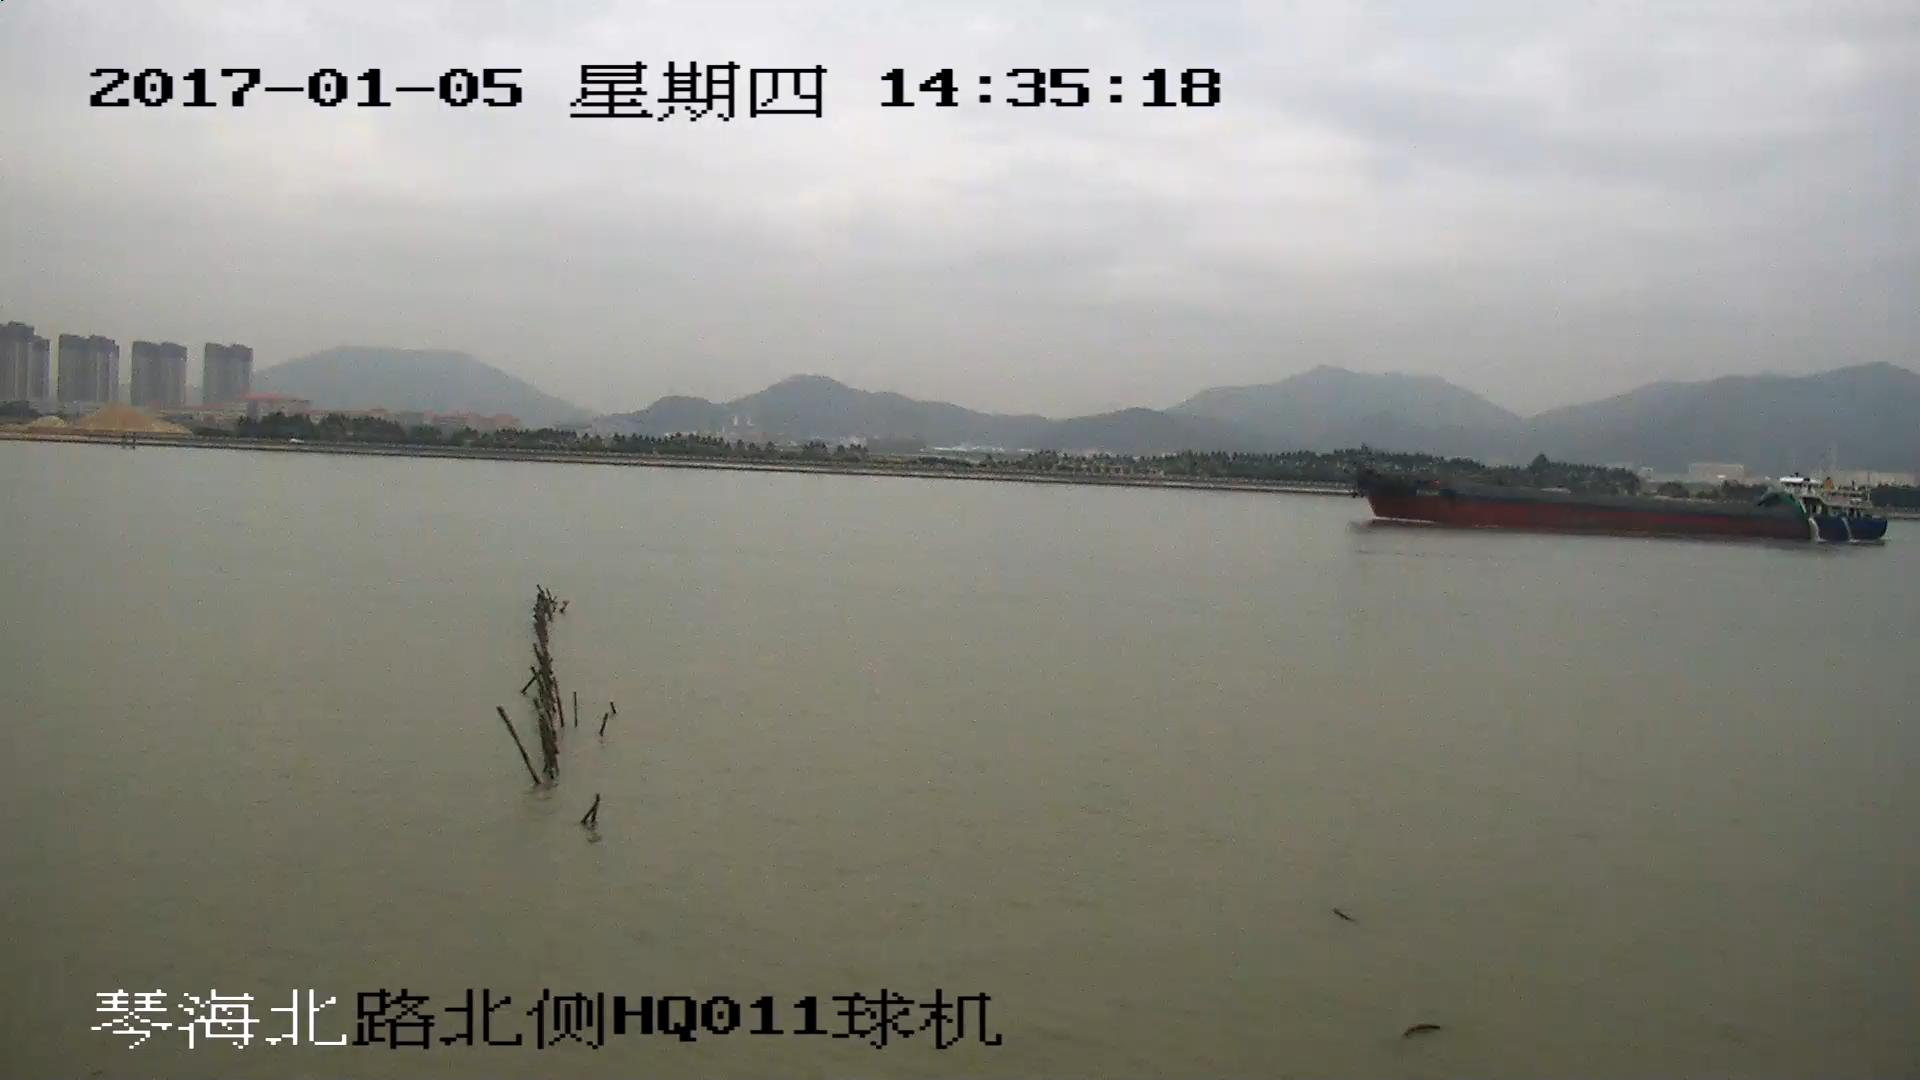bulk cargo carrier: (1362, 446, 1890, 544)
